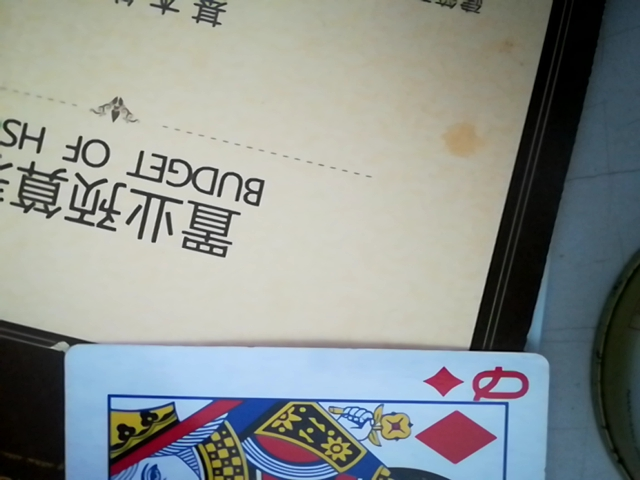fk q: (32, 340, 557, 479)
